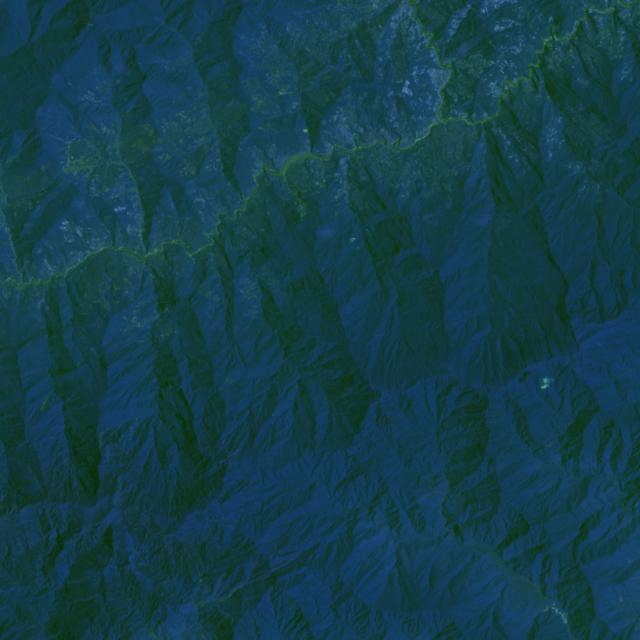landslides: (39, 390, 54, 411), (51, 135, 72, 144), (44, 259, 55, 275), (543, 602, 557, 612)
